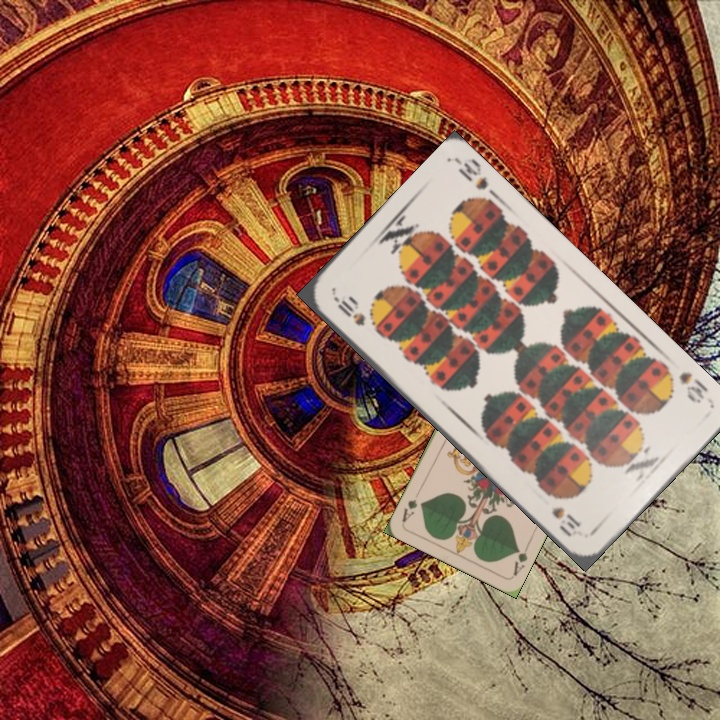GA: (509, 540, 532, 578)
S10: (329, 291, 369, 329), (674, 368, 711, 407)
